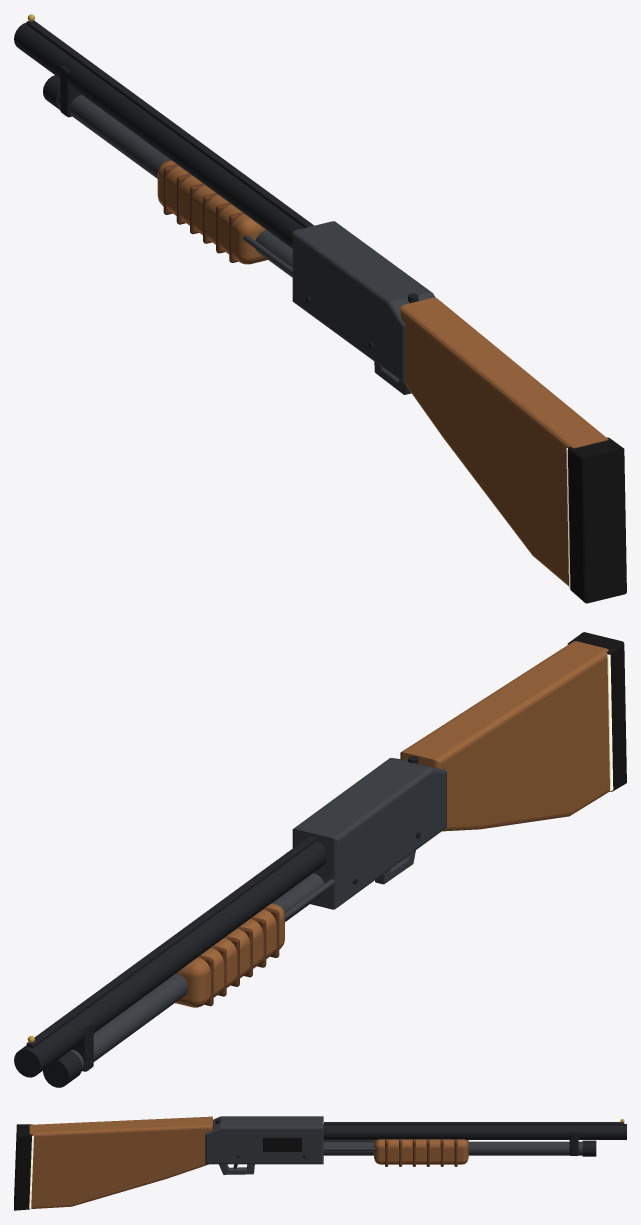
Rendered from shotgun.glb.
The picture shows the model from 3 angles, top to bottom: view 1: azimuth 30°, elevation 25°; view 2: azimuth 150°, elevation 25°; view 3: azimuth 270°, elevation 25°; orthographic projection. The views are drawn at different scales.
Parts seen in each view (by area): view 1: stock, receiver, recoil_pad, barrel, pump, mag_tube, vent_rib; view 2: stock, receiver, barrel, pump, mag_tube, vent_rib, recoil_pad, tube_cap; view 3: stock, receiver, barrel, mag_tube, pump, recoil_pad, vent_rib, ejection_port, trigger_guard, tube_cap, barrel_clamp, action_bar (+1 smaller).
Boxes of the visible parts, x1,y1,x2,y2 form: stock: (400, 297, 608, 586); receiver: (292, 221, 435, 383); recoil_pad: (567, 437, 626, 603); barrel: (14, 22, 303, 248); pump: (157, 160, 267, 264); mag_tube: (58, 93, 292, 277); vent_rib: (26, 20, 313, 227); stock: (400, 641, 609, 831); receiver: (292, 758, 446, 909); barrel: (14, 841, 326, 1077); pump: (175, 903, 284, 1007); mag_tube: (70, 873, 324, 1070); vent_rib: (26, 836, 316, 1047); recoil_pad: (567, 632, 626, 791); tube_cap: (43, 1051, 82, 1087); stock: (29, 1116, 212, 1208); receiver: (205, 1116, 323, 1164); barrel: (323, 1124, 626, 1139); mag_tube: (323, 1141, 582, 1155); pump: (374, 1139, 468, 1164); recoil_pad: (14, 1124, 32, 1210); vent_rib: (324, 1122, 624, 1125); ejection_port: (263, 1137, 301, 1151); trigger_guard: (219, 1164, 254, 1174); tube_cap: (582, 1140, 596, 1156); barrel_clamp: (569, 1130, 578, 1155); action_bar: (323, 1147, 376, 1150).
Size of the model in its own units: 0.0545 by 0.1716 by 1.1.
